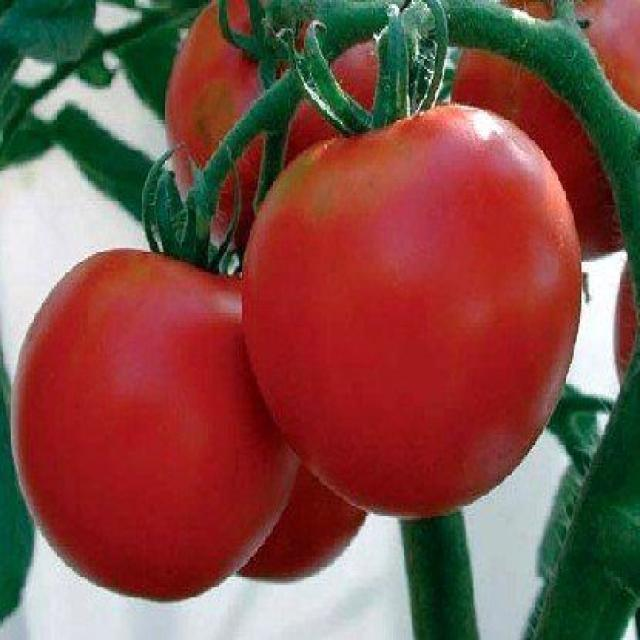level 6: (241, 106, 583, 524), (9, 249, 296, 609), (168, 4, 410, 272), (178, 267, 371, 583), (449, 0, 640, 262)
